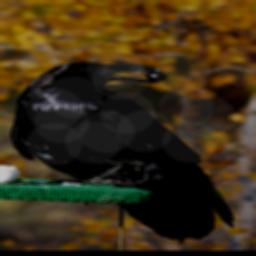Crow: (8, 62, 234, 243)
